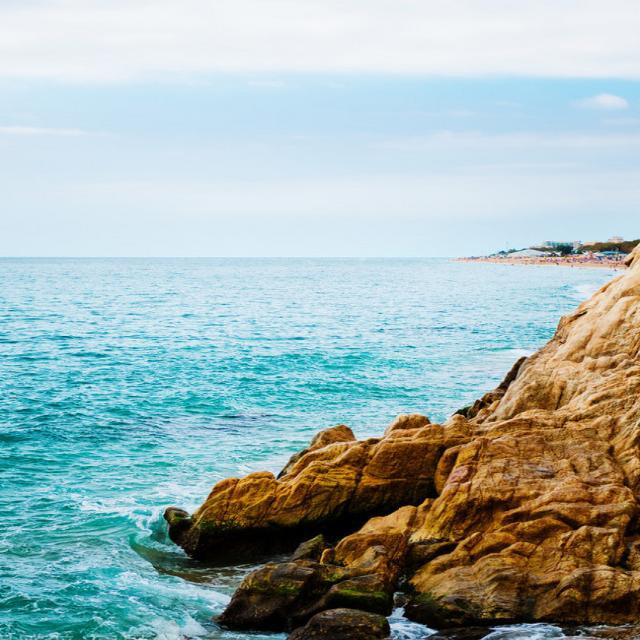reef: (118, 428, 511, 624)
